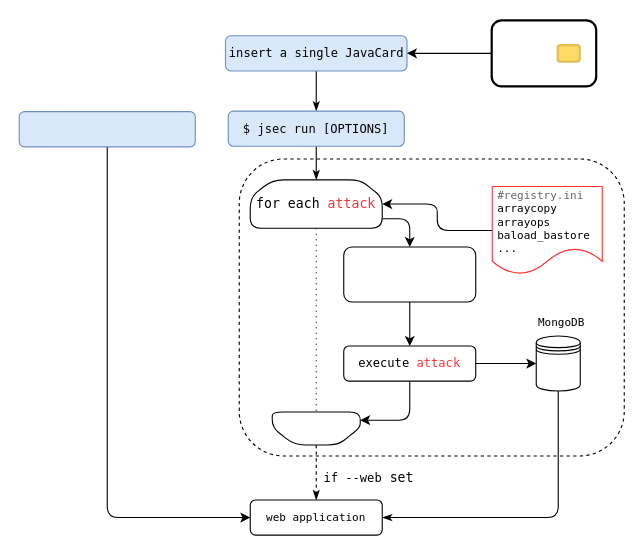
Image size: 644x554. Some labels were removed from this diagram. The centre of each missing label's shape, as x and y in pixels:
"$ jsec web [OPTIONS]" goes at (x=106, y=129).
"end loop" goes at (x=315, y=428).
"rebuild attack if needed" goes at (x=409, y=274).
